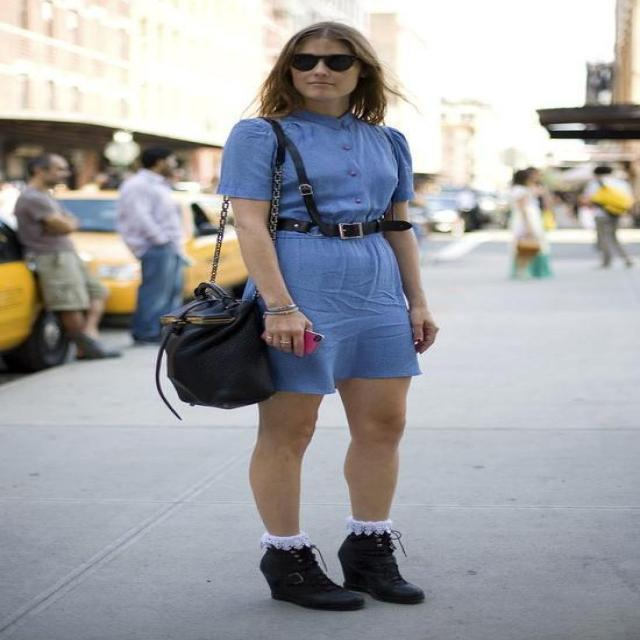dress: (216, 110, 424, 395)
